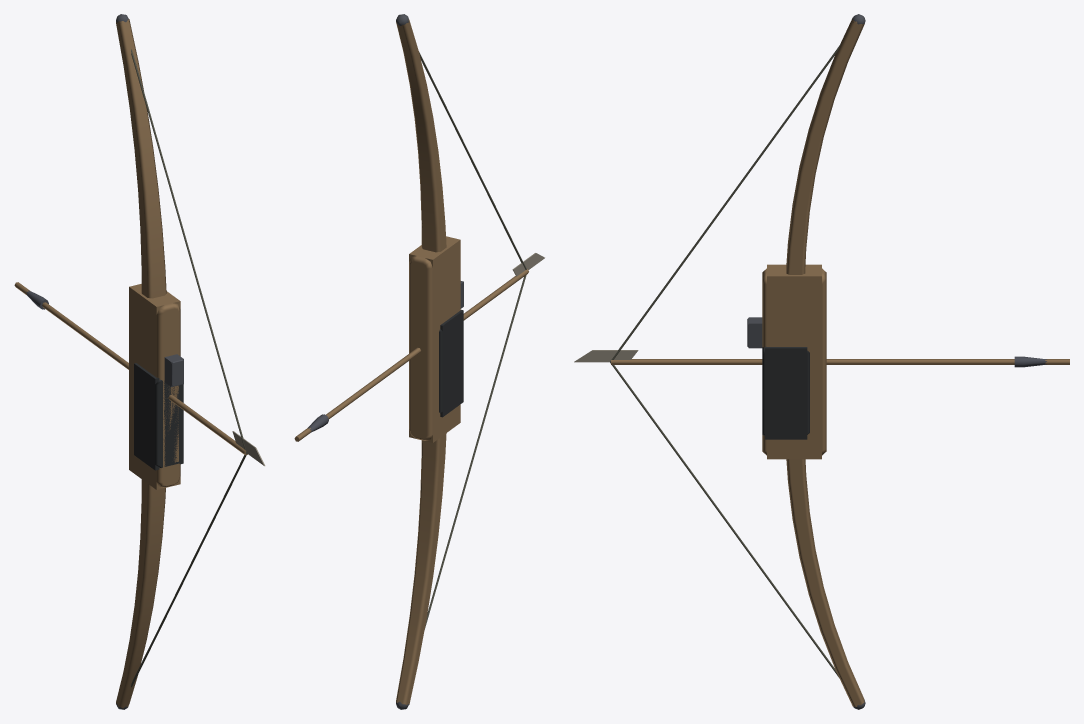
File: bw_hunter.glb
3 renders of one model, left to right at view 1: azimuth 30°, elevation 25°; view 2: azimuth 150°, elevation 25°; view 3: azimuth 270°, elevation 25°, orthographic.
Visible parts, largest first — view 1: L0, L1; view 2: L0, L1; view 3: L0, L1.
Part boxes in pixels (x1=…): L0: x1=14, y1=14, x2=265, y2=709; L1: x1=28, y1=14, x2=246, y2=709; L0: x1=294, y1=14, x2=544, y2=709; L1: x1=308, y1=14, x2=526, y2=709; L0: x1=574, y1=14, x2=1069, y2=709; L1: x1=610, y1=14, x2=1044, y2=709.
Bounding box in the file's own units: 0.036 × 0.835 × 0.54.
